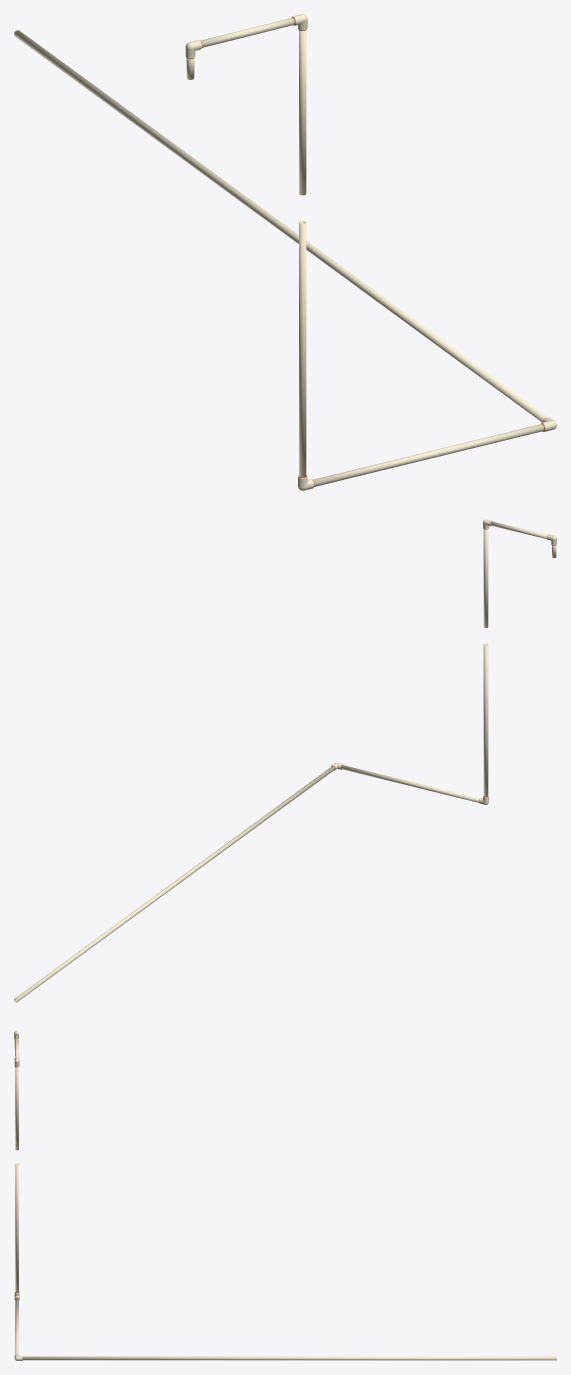
Rendered from pipes_supply__water_heater__09e92b58.glb.
3 renders of one model, top to bottom at view 1: azimuth 30°, elevation 25°; view 2: azimuth 150°, elevation 25°; view 3: azimuth 270°, elevation 25°, orthographic. The views are drawn at different scales.
Parts seen in each view (by area): view 1: pipe_supply_cold_riser; view 2: pipe_supply_cold_riser; view 3: pipe_supply_cold_riser.
Part boxes in pixels (bbox=[...]): pipe_supply_cold_riser: bbox=[14, 17, 546, 486]; pipe_supply_cold_riser: bbox=[14, 521, 556, 1002]; pipe_supply_cold_riser: bbox=[14, 1034, 556, 1360].
Bounding box in the file's own units: 1.27 × 1.56 × 3.19.
